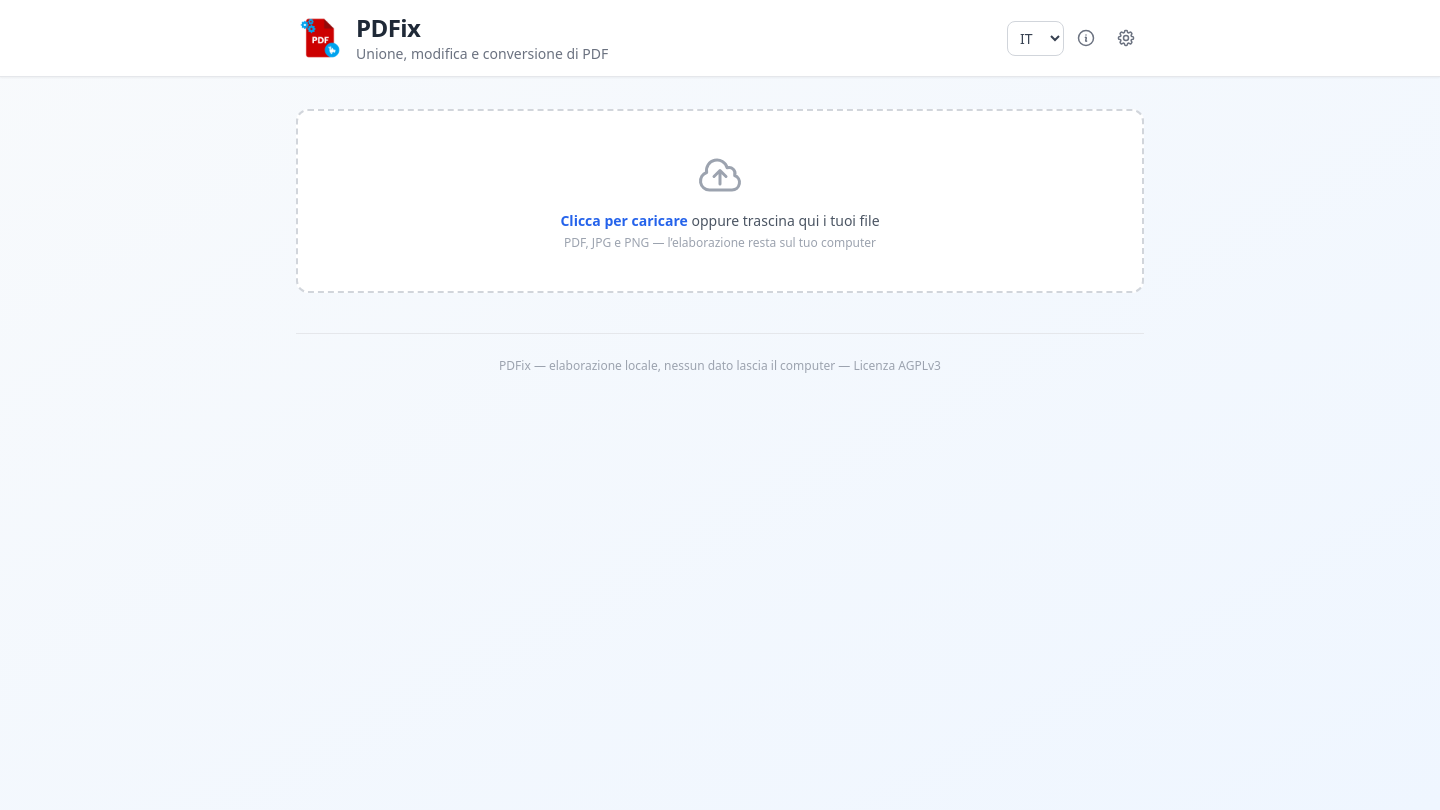
Scenario: App › mostra i file scelti e genera i comandi disponibili
Click the element with test id "uploader".
click(720, 201)  # box [296,109,1144,293]
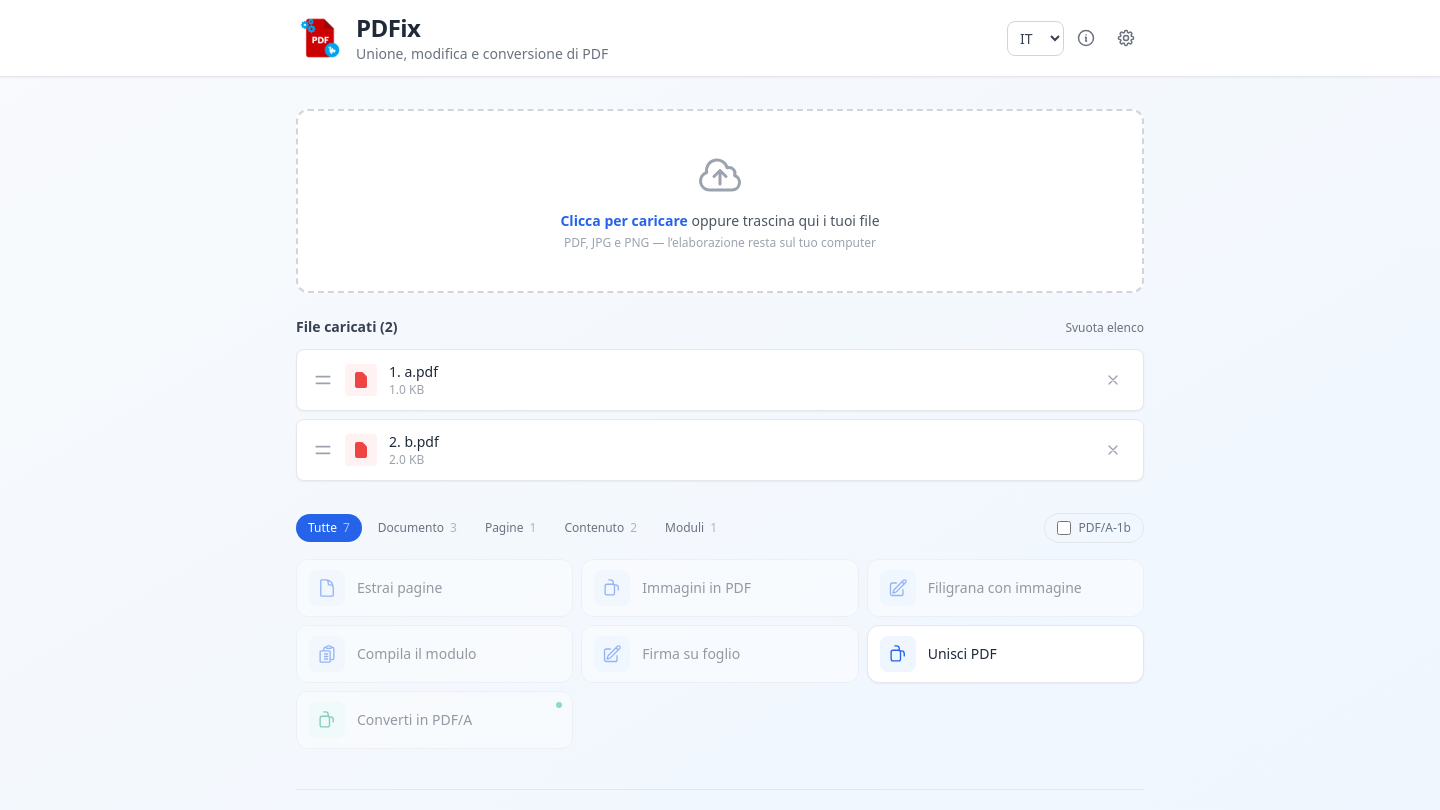
Check: the text "File caricati (2)" is shown, box [296,317,398,337]
Check: the button with test id "action-merge" is enabled, box [867,625,1144,683]
